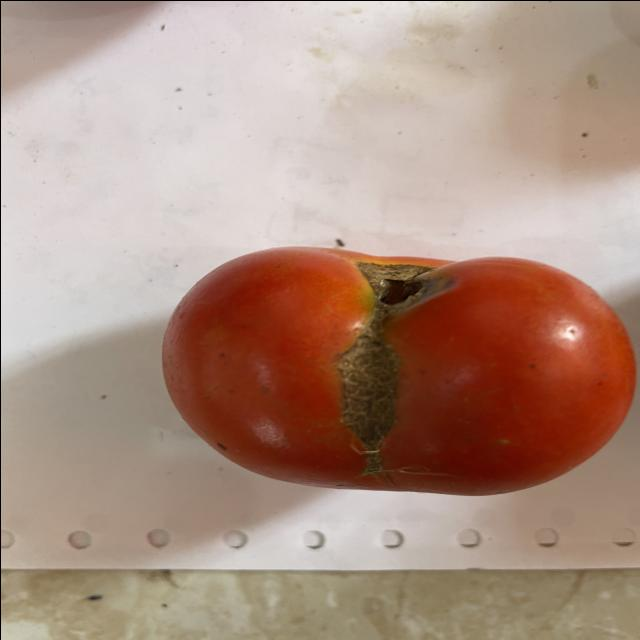tomato_cracking: (332, 281, 418, 451)
